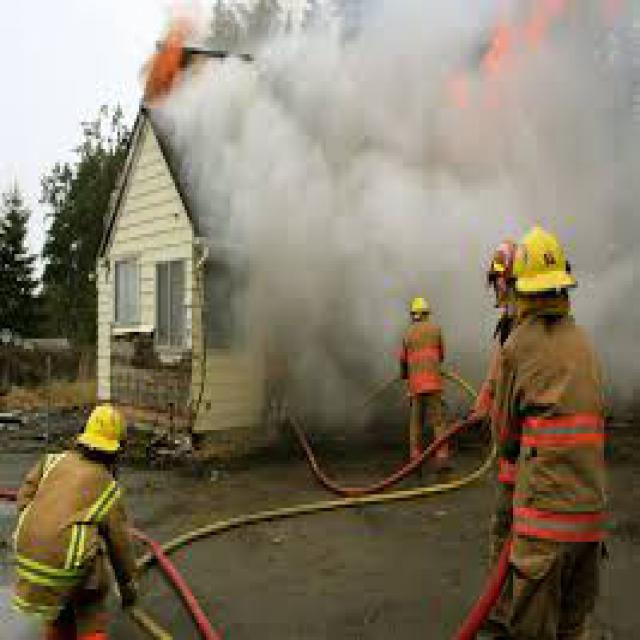smoke: (175, 44, 638, 433)
